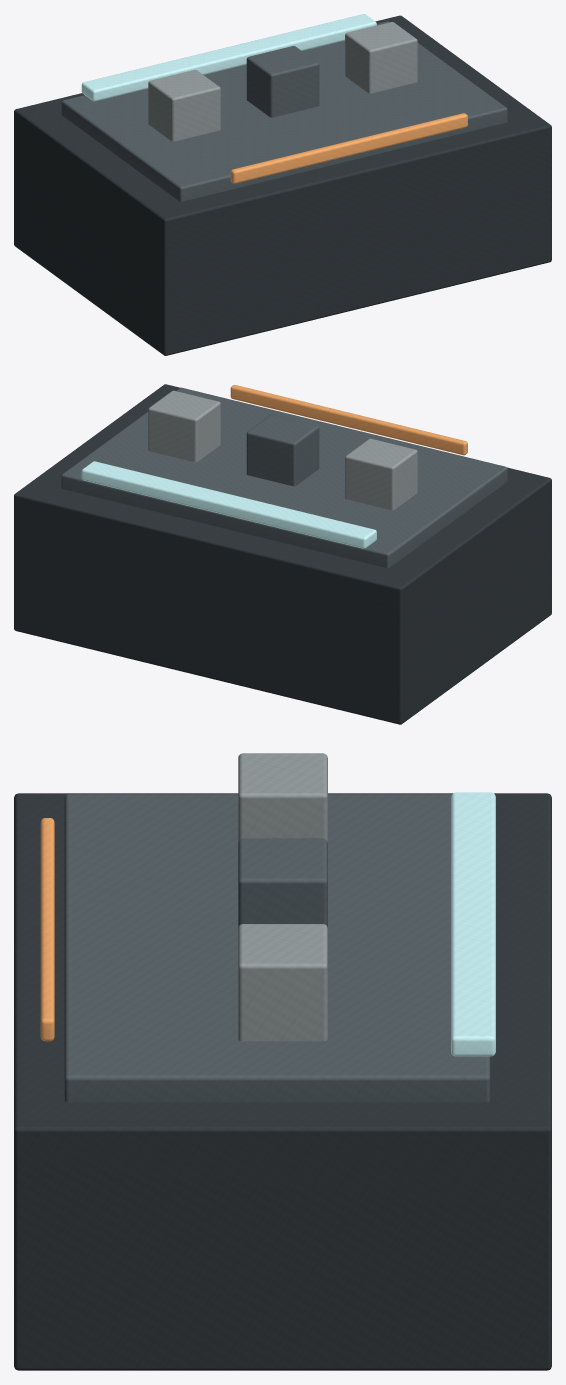
File: FloorCableManifold.glb
3 renders of one model, top to bottom at view 1: azimuth 30°, elevation 25°; view 2: azimuth 150°, elevation 25°; view 3: azimuth 270°, elevation 25°, orthographic. The views are drawn at different scales.
Parts seen in each view (by area): view 1: FloorCableManifold_Mesh; view 2: FloorCableManifold_Mesh; view 3: FloorCableManifold_Mesh.
Boxes of the visible parts, <box> form: FloorCableManifold_Mesh: <box>14,14,551,355</box>; FloorCableManifold_Mesh: <box>14,384,551,724</box>; FloorCableManifold_Mesh: <box>14,753,551,1370</box>.
Size of the model in its own units: 1.42 by 0.68 by 0.96.
5 materials, 5 textured.
